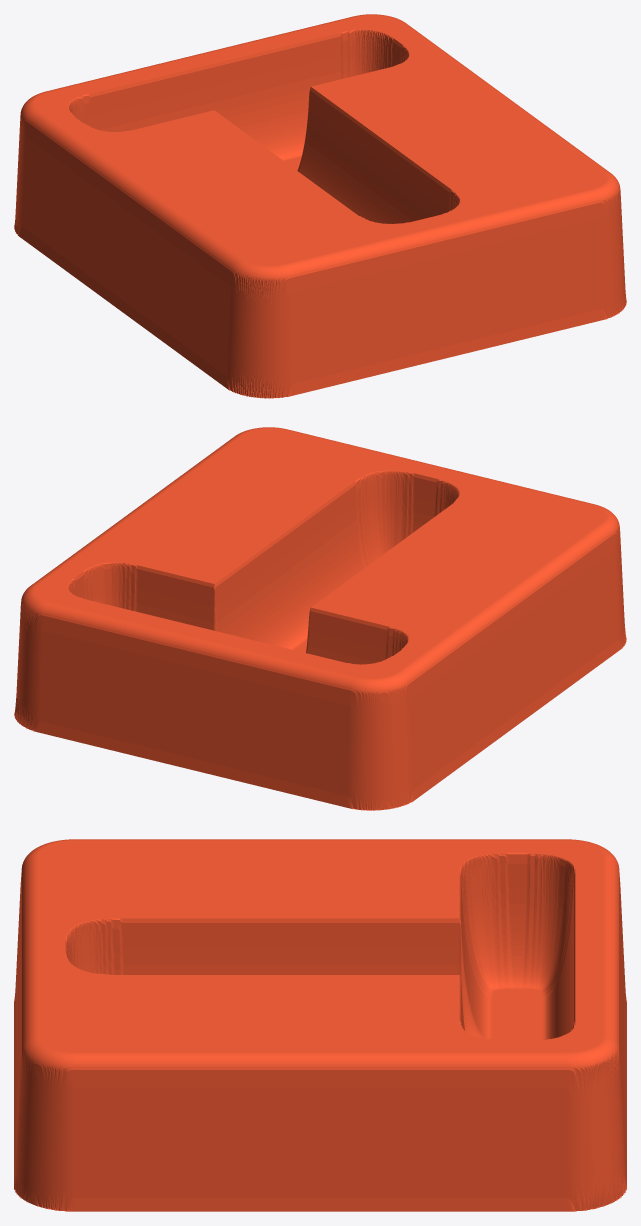
The model's file is mold.glb.
The picture shows the model from 3 angles, top to bottom: view 1: azimuth 30°, elevation 25°; view 2: azimuth 150°, elevation 25°; view 3: azimuth 270°, elevation 25°; orthographic projection. The views are drawn at different scales.
Visible parts, largest first — view 1: geometry_0; view 2: geometry_0; view 3: geometry_0.
Part boxes in pixels (box(x1,y1,x2,y2)): geometry_0: box(14, 14, 626, 398); geometry_0: box(14, 427, 626, 810); geometry_0: box(14, 839, 626, 1211).
Size of the model in its own units: 0.0826 by 0.0248 by 0.0924.
